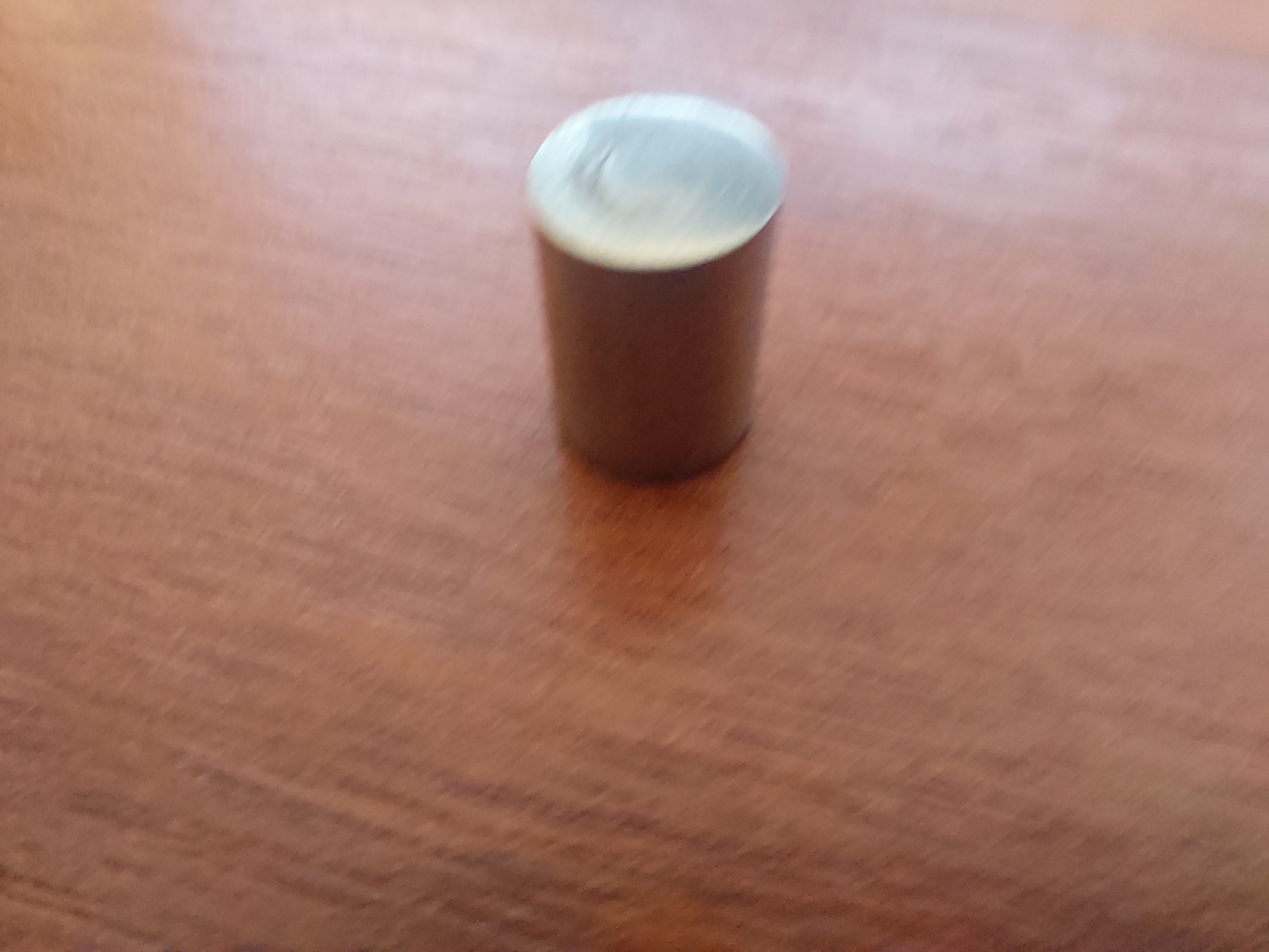tablet: (506, 95, 796, 494)
